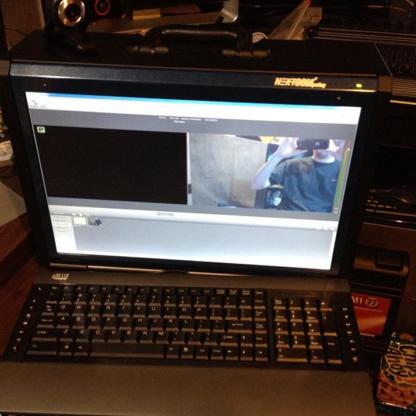board: (0, 56, 380, 416)
